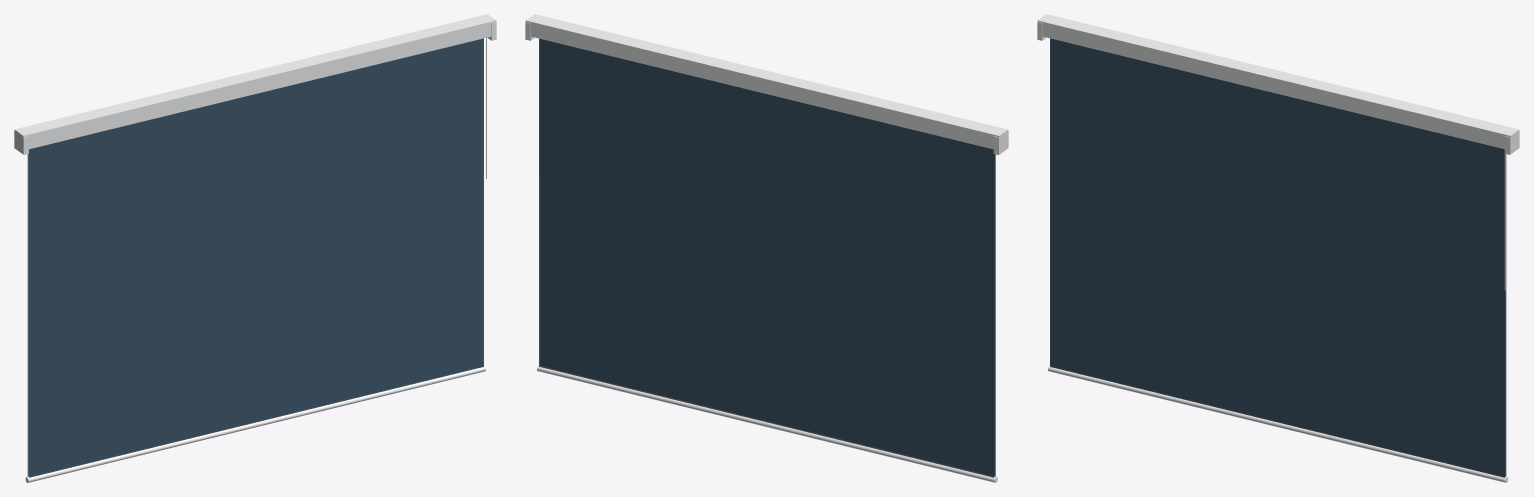
The model's file is curtain-rainbow-rivere.glb.
3 renders of one model, left to right at view 1: azimuth 30°, elevation 25°; view 2: azimuth 150°, elevation 25°; view 3: azimuth 330°, elevation 25°, orthographic.
Visible parts, largest first — view 1: RainbowFrontFabric, RainbowTopHood, RainbowBottomBar, RainbowBackFabric; view 2: RainbowBackFabric, RainbowTopHood, RainbowBottomBar, RainbowFrontFabric; view 3: RainbowFrontFabric, RainbowTopHood, RainbowBottomBar, RainbowBackFabric.
Part boxes in pixels (x1,y1,x2,y2): RainbowFrontFabric: [29, 38, 483, 477]; RainbowTopHood: [14, 14, 496, 150]; RainbowBottomBar: [25, 365, 485, 482]; RainbowBackFabric: [27, 154, 28, 476]; RainbowBackFabric: [539, 38, 994, 477]; RainbowTopHood: [525, 14, 1008, 150]; RainbowBottomBar: [537, 365, 997, 482]; RainbowFrontFabric: [994, 154, 995, 476]; RainbowFrontFabric: [1050, 38, 1504, 477]; RainbowTopHood: [1037, 14, 1519, 150]; RainbowBottomBar: [1048, 365, 1508, 482]; RainbowBackFabric: [1505, 154, 1506, 476].
Size of the model in its own units: 3.68 by 2.61 by 0.13.
